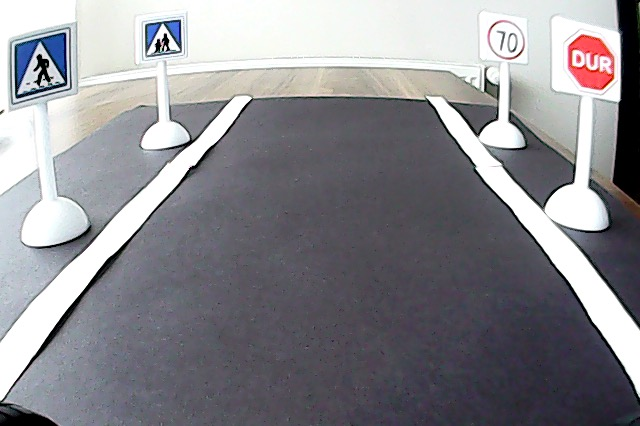pedestrian crossing: (9, 28, 74, 105)
school crossing: (138, 17, 186, 60)
speed limit 70: (484, 16, 530, 65)
stop sign: (558, 24, 620, 97)
